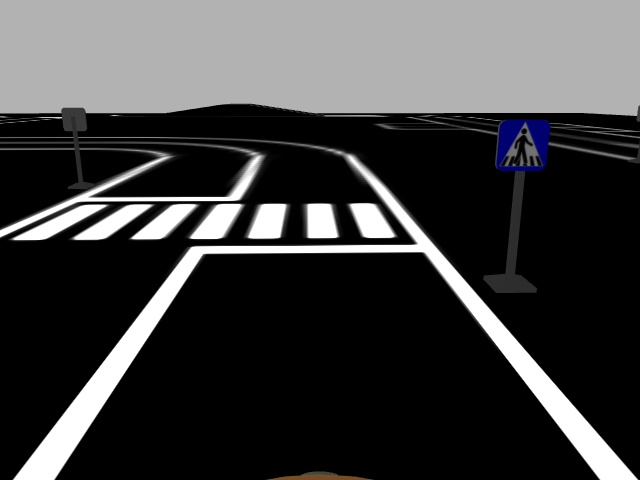crosswalk: (494, 118, 553, 175)
